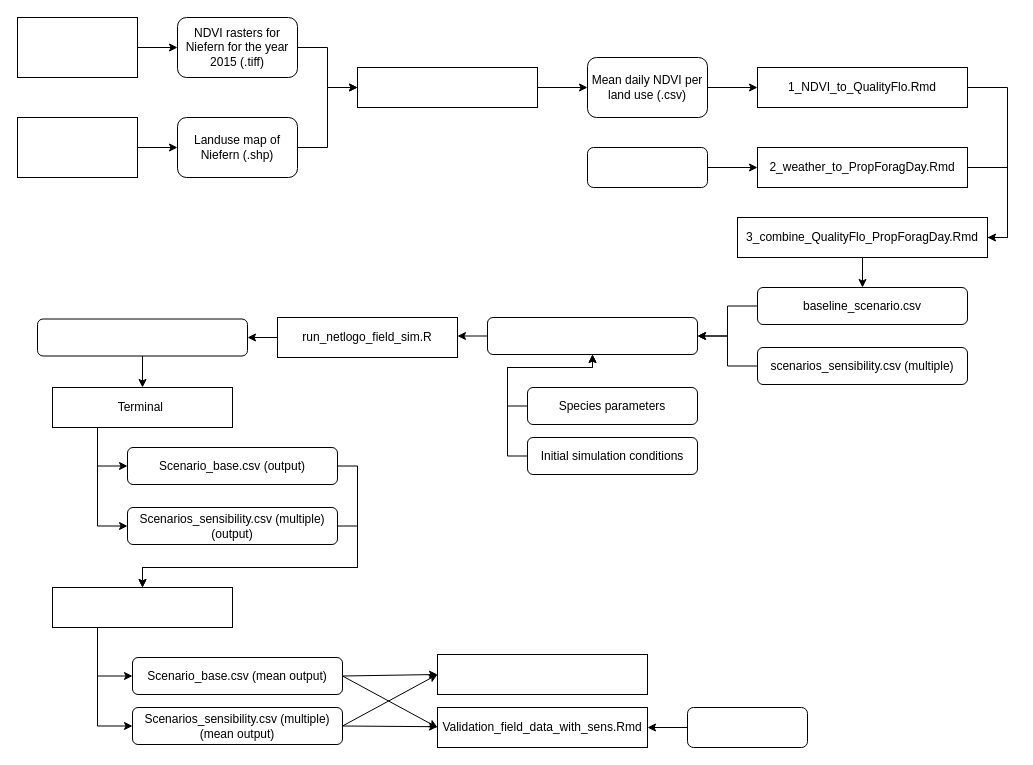
This 1033x765 diagram has some shape labels left out. Each missing label, with the box of its shape:
Field data (.csv): (686, 706, 808, 748)
Google Earth Engine: (16, 16, 138, 78)
NDVI_raster_to_meanLU.Rmd: (356, 66, 538, 108)
QGIS: (16, 116, 138, 178)
run_scenarios_base.sh: (36, 318, 248, 356)
run_scenarios_Nie2015.csv: (486, 316, 698, 354)
Sensitivity_function.Rmd: (436, 654, 648, 694)
Treat_results.R: (52, 586, 232, 628)
Weather data (.csv): (586, 146, 708, 188)
